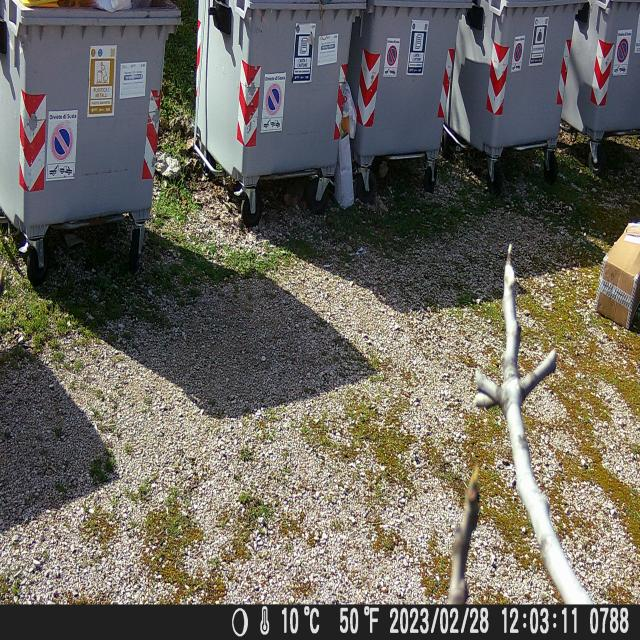sampah-detection: (335, 141, 357, 210)
